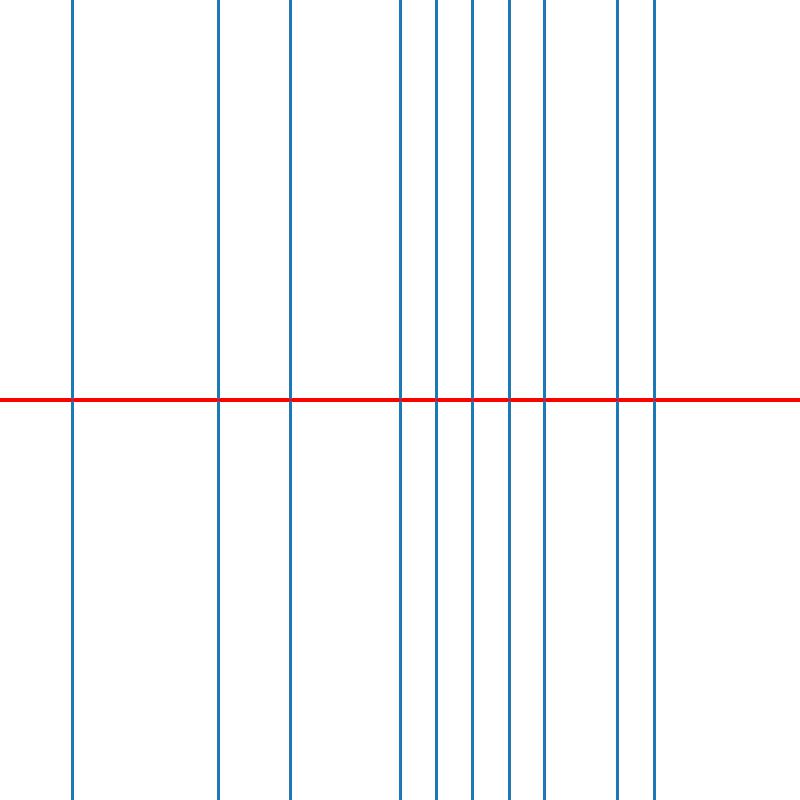root: (650, 396, 658, 404), (432, 396, 440, 404), (541, 396, 549, 404), (69, 396, 76, 404), (287, 396, 294, 404), (214, 396, 221, 404), (614, 396, 621, 404), (469, 396, 476, 404), (505, 396, 512, 404), (396, 396, 403, 404)
